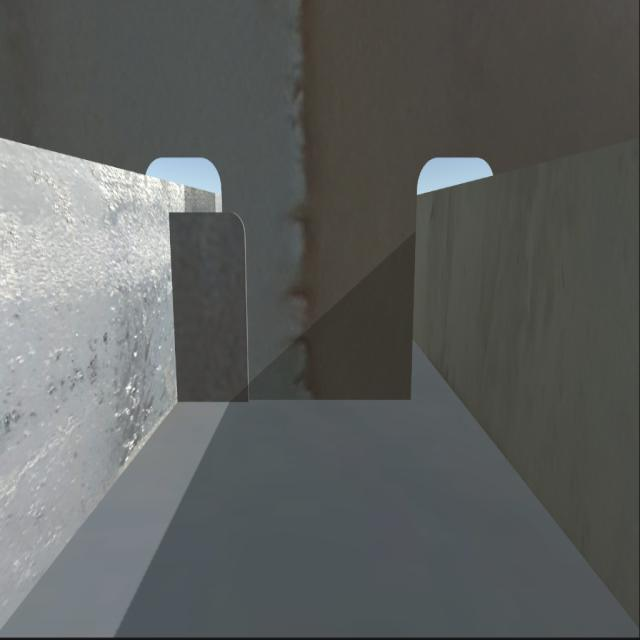fillet_yong_jeop_jang: (177, 387, 411, 408)
longi_yong_jeop_jang: (170, 212, 184, 401)
plate_CP05: (176, 205, 255, 399)
